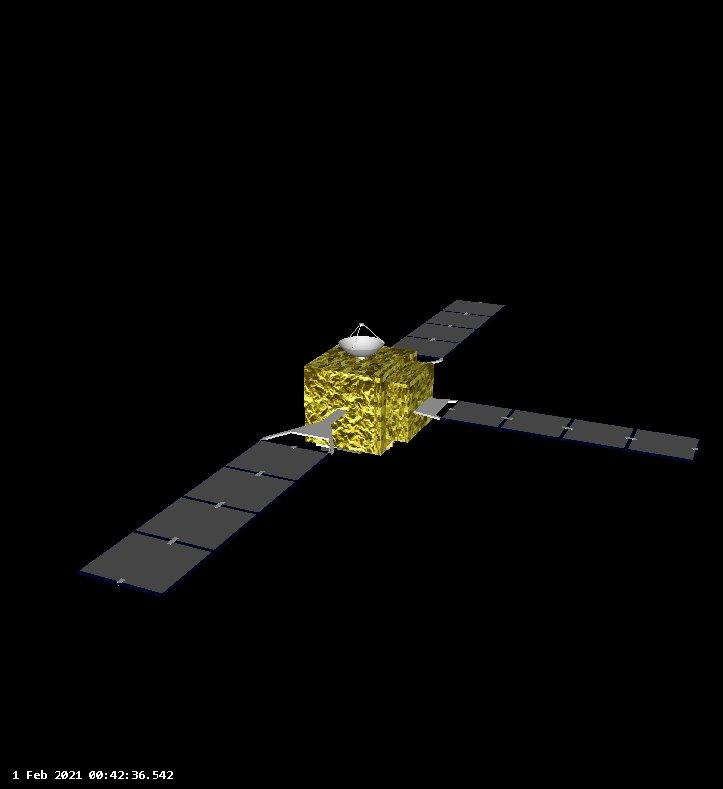antenna: (337, 321, 386, 359)
body: (302, 337, 436, 458)
solar: (76, 438, 332, 599), (440, 398, 702, 464), (389, 297, 508, 361)
